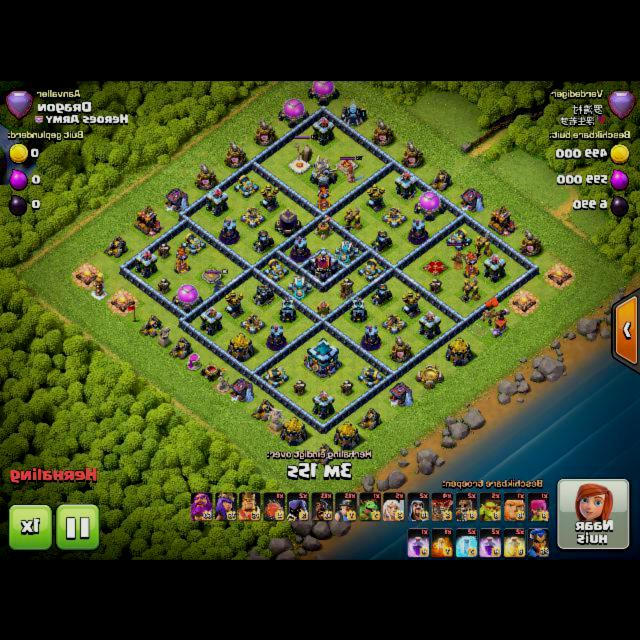AD: (366, 183, 386, 212), (402, 289, 422, 318), (260, 183, 279, 212), (225, 289, 244, 318)
AirSweeper: (314, 215, 333, 239), (315, 298, 333, 318)
BombTower: (351, 295, 367, 321), (280, 296, 296, 322)
Canon: (234, 174, 260, 197), (447, 227, 473, 250), (181, 231, 207, 254), (358, 258, 384, 281), (264, 258, 290, 281), (264, 365, 290, 387), (358, 365, 384, 387)
ClanCastle: (310, 248, 338, 282)
Eagle: (310, 154, 338, 189)
Inferno: (174, 247, 190, 274), (464, 251, 480, 278), (316, 186, 331, 211)
KingPad: (337, 156, 359, 173)
Mortar: (253, 229, 275, 253), (371, 230, 393, 253), (371, 283, 393, 306), (253, 284, 275, 306)
QueenPad: (424, 257, 448, 275)
RcPad: (202, 268, 221, 283)
Scattershot: (335, 238, 359, 262), (288, 275, 312, 299)
TH13: (307, 337, 340, 377)
WardenPad: (289, 157, 310, 172)
WizzTower: (362, 324, 381, 350), (267, 324, 286, 350), (409, 217, 428, 243), (221, 217, 239, 243), (291, 235, 309, 261)
Xbow: (382, 205, 407, 227), (240, 205, 265, 227), (382, 313, 407, 334), (240, 313, 265, 334)
